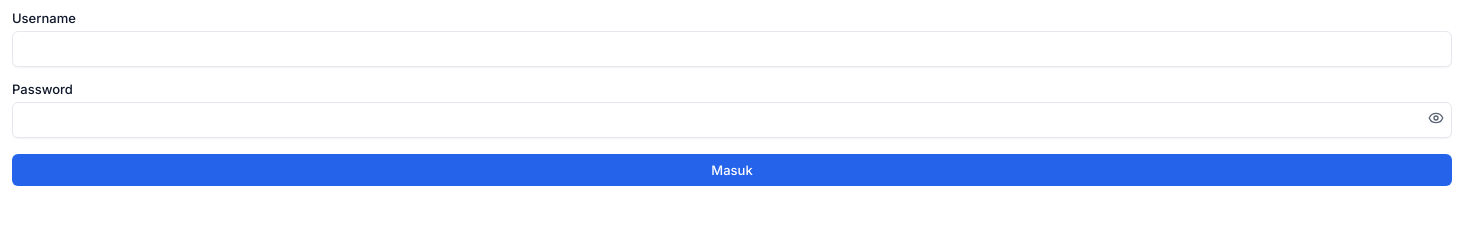
Test: LoginForm › two-step verification (Step 23a) › shows the rate-limit wait on 429 and the back link returns to the credentials
Type "budi" into the field labelled "Username" at (732, 49), box [12, 31, 1452, 67]
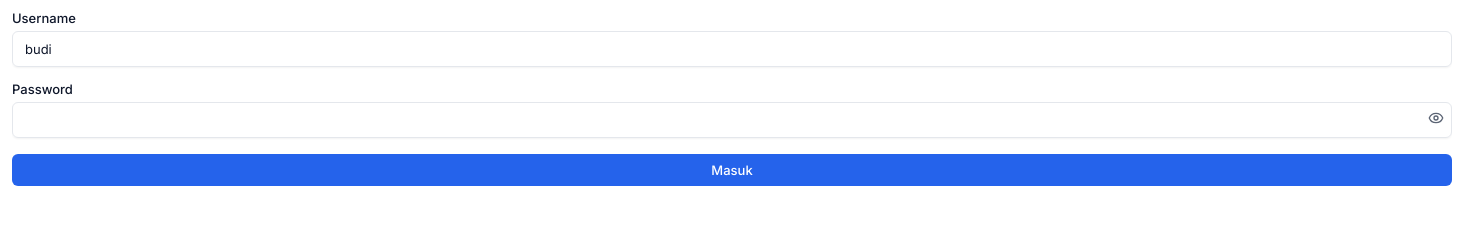
Type "pw" into the password field labelled "Password" at (732, 120), box [12, 102, 1452, 138]
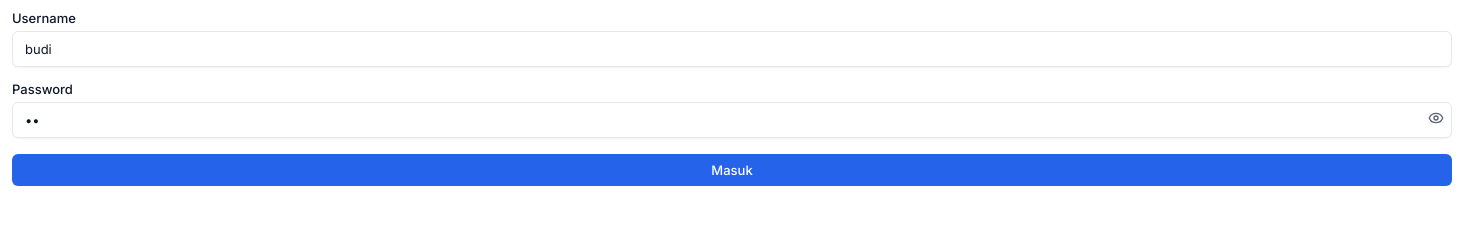
Click the button "Masuk" at (732, 170), box [12, 154, 1452, 186]
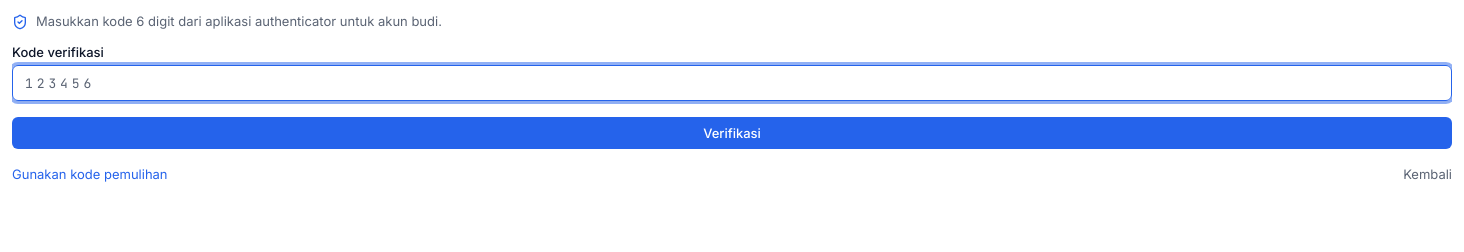
Type "111111" into the field labelled "Kode verifikasi" at (732, 83), box [12, 65, 1452, 101]
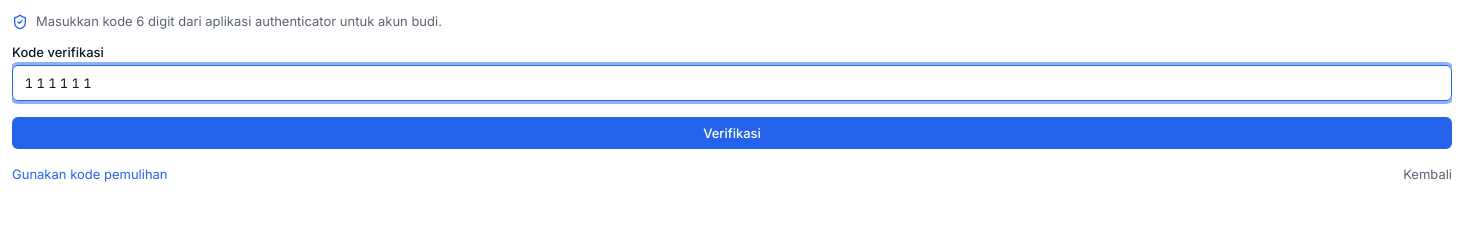
Click the button "Verifikasi" at (732, 133), box [12, 117, 1452, 149]
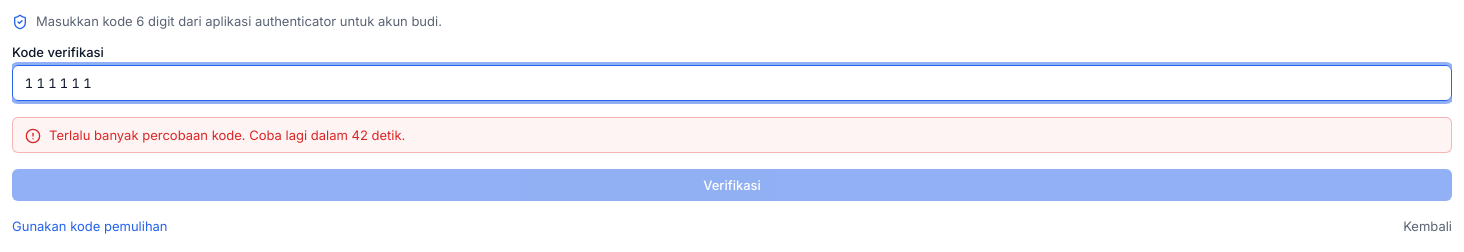
Expected: the message shows "42 detik", [49, 127, 405, 143]
Expected: the button "Verifikasi" is disabled, [12, 169, 1452, 201]
Click the button "Kembali" at (1428, 226), box [1403, 217, 1452, 236]
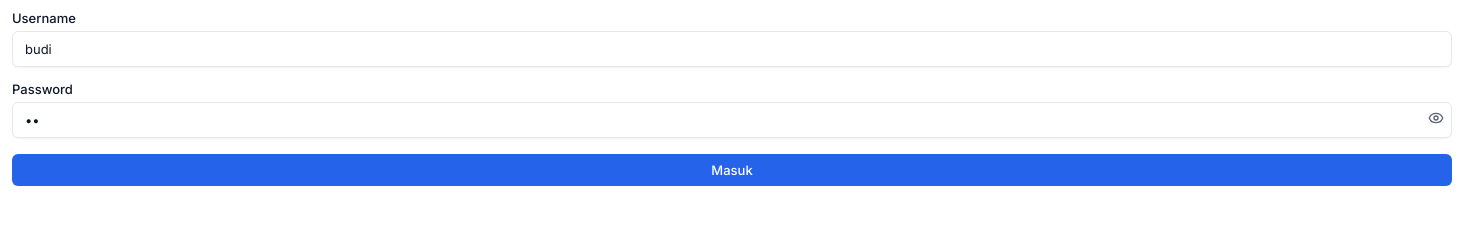
Expected: the field labelled "Username" holds "budi", [12, 31, 1452, 67]
